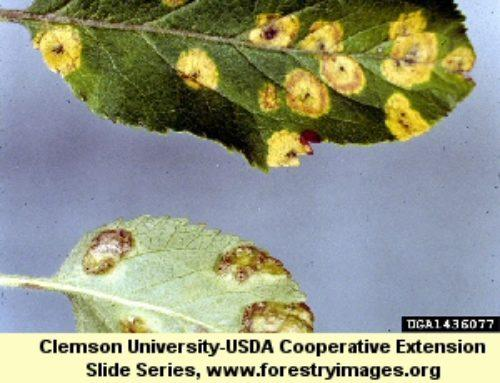Apple rust leaf: (1, 3, 492, 187), (36, 205, 328, 334)
